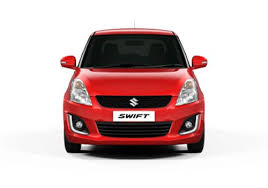Swift: (53, 23, 210, 155)
